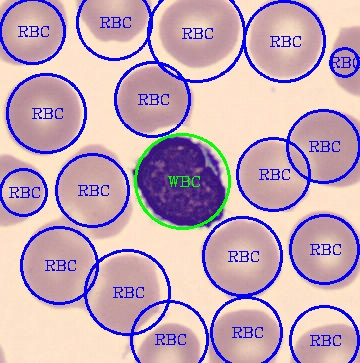RBC: (54, 141, 132, 240), (19, 213, 95, 310), (199, 216, 282, 299), (1, 73, 83, 155), (85, 250, 162, 336), (247, 0, 325, 80), (285, 208, 358, 292), (157, 0, 243, 70), (286, 105, 358, 188), (113, 64, 197, 135), (237, 137, 311, 213), (0, 0, 69, 65), (205, 307, 284, 362), (0, 152, 46, 227), (74, 0, 153, 43)
WBC: (131, 134, 228, 228)
